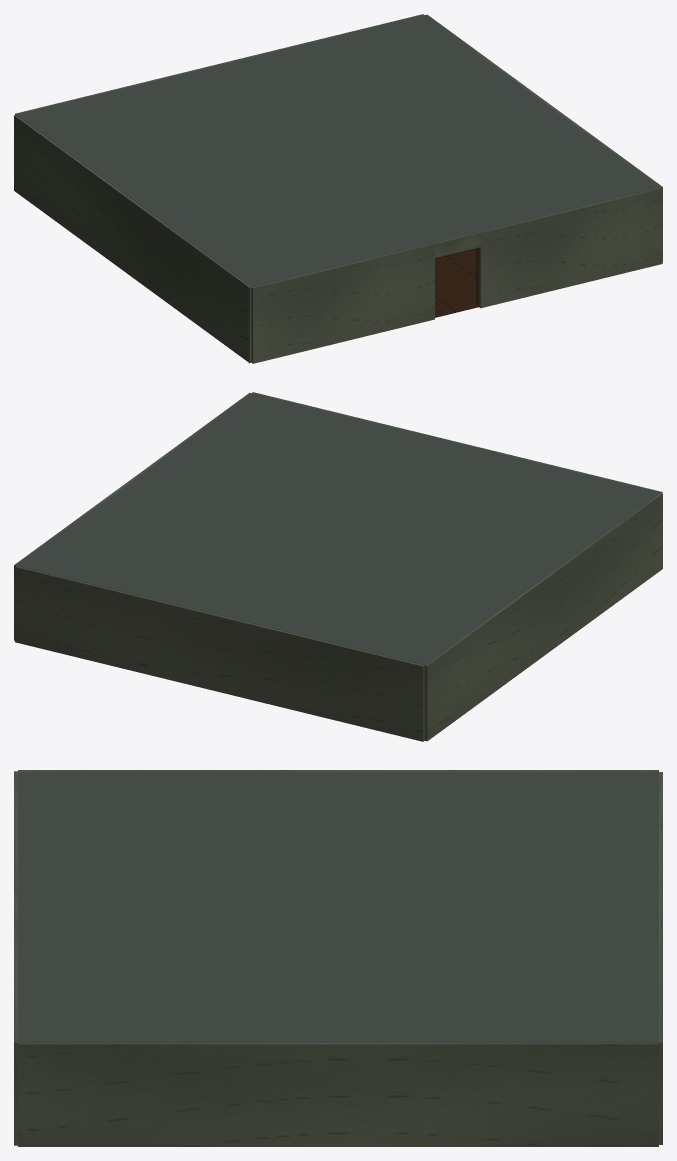
File: haunted-rooms.glb
The picture shows the model from 3 angles, top to bottom: view 1: azimuth 30°, elevation 25°; view 2: azimuth 150°, elevation 25°; view 3: azimuth 270°, elevation 25°; orthographic projection. The views are drawn at different scales.
Parts seen in each view (by area): view 1: Bedroom; view 2: Bedroom; view 3: Bedroom.
Part boxes in pixels (box(x1,y1,x2,y2)): Bedroom: box(14, 14, 662, 363); Bedroom: box(14, 392, 662, 741); Bedroom: box(14, 770, 662, 1146).
Size of the model in its own units: 17.22 by 3.01 by 17.22.
9 materials, 2 textured.
